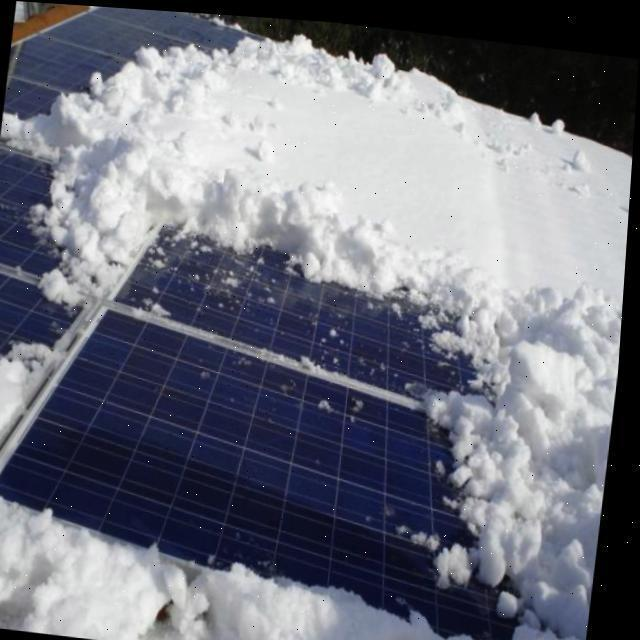Anomaly Solar Panel: (0, 4, 634, 640)
Snow: (0, 32, 634, 640)
